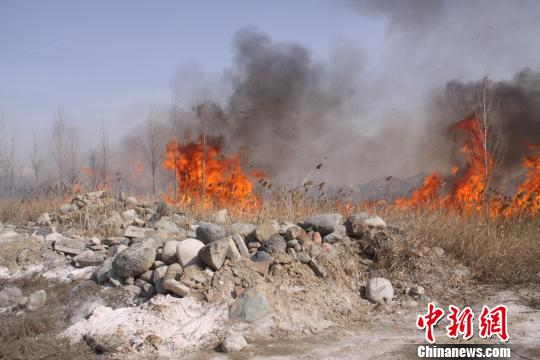fire: (411, 113, 539, 216), (167, 128, 269, 211)
